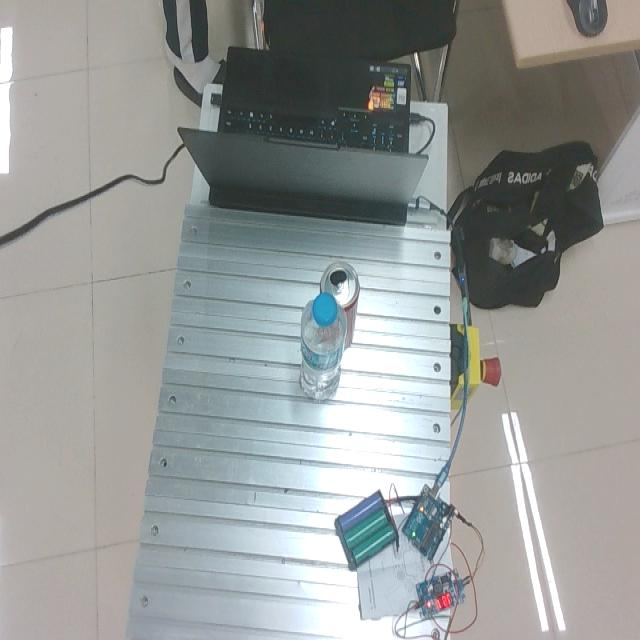coca: (320, 260, 361, 352)
lavie: (300, 291, 348, 400)
